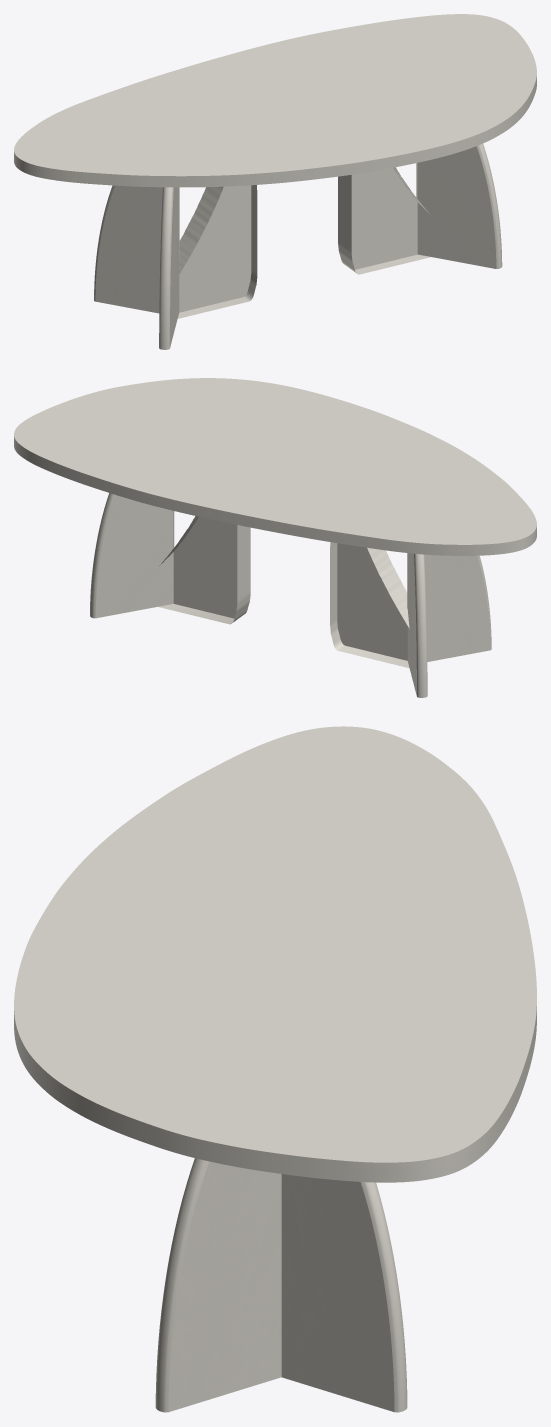
Rendered from pale_pebbletop_standard_plane.glb.
3 renders of one model, top to bottom at view 1: azimuth 30°, elevation 25°; view 2: azimuth 150°, elevation 25°; view 3: azimuth 270°, elevation 25°, orthographic. The views are drawn at different scales.
Visible parts, largest first — view 1: standard_pebbletop, plane_single1, plane_singleright2, plane_singleleft1, plane_single2, plane_singleright1; view 2: standard_pebbletop, plane_singleleft2, plane_single1, plane_single2, plane_singleright1, plane_singleleft1; view 3: standard_pebbletop, plane_singleright2, plane_singleleft2.
Boxes of the visible parts, x1,y1,x2,y2 form: standard_pebbletop: [14, 14, 536, 187]; plane_single1: [177, 185, 257, 318]; plane_singleright2: [416, 143, 502, 268]; plane_singleleft1: [94, 185, 179, 313]; plane_single2: [338, 167, 430, 274]; plane_singleright1: [159, 187, 179, 349]; standard_pebbletop: [14, 378, 536, 555]; plane_singleleft2: [90, 493, 174, 618]; plane_single1: [330, 542, 409, 668]; plane_single2: [158, 516, 250, 624]; plane_singleright1: [407, 553, 491, 661]; plane_singleleft1: [407, 553, 427, 697]; standard_pebbletop: [14, 726, 536, 1182]; plane_singleright2: [155, 1158, 281, 1412]; plane_singleleft2: [281, 1174, 407, 1412].
Size of the model in its own units: 7.5 by 2.5 by 3.8.
Materials: 1 (1 with a texture image).
